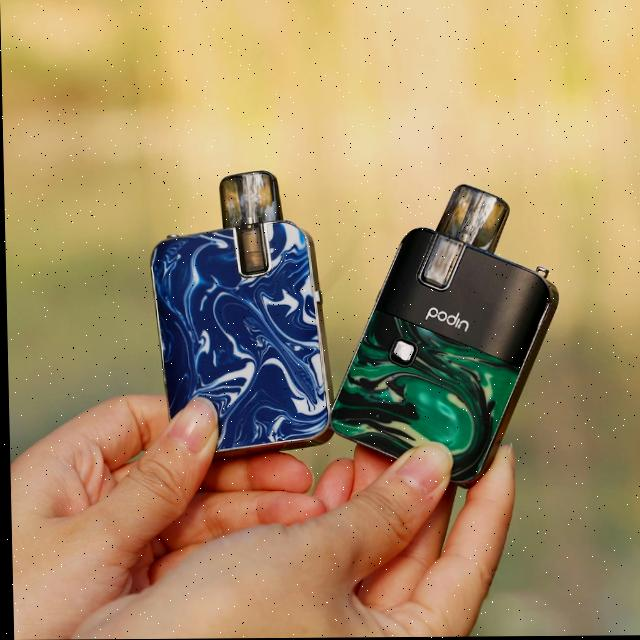vape: (330, 185, 560, 486), (145, 168, 329, 447)
